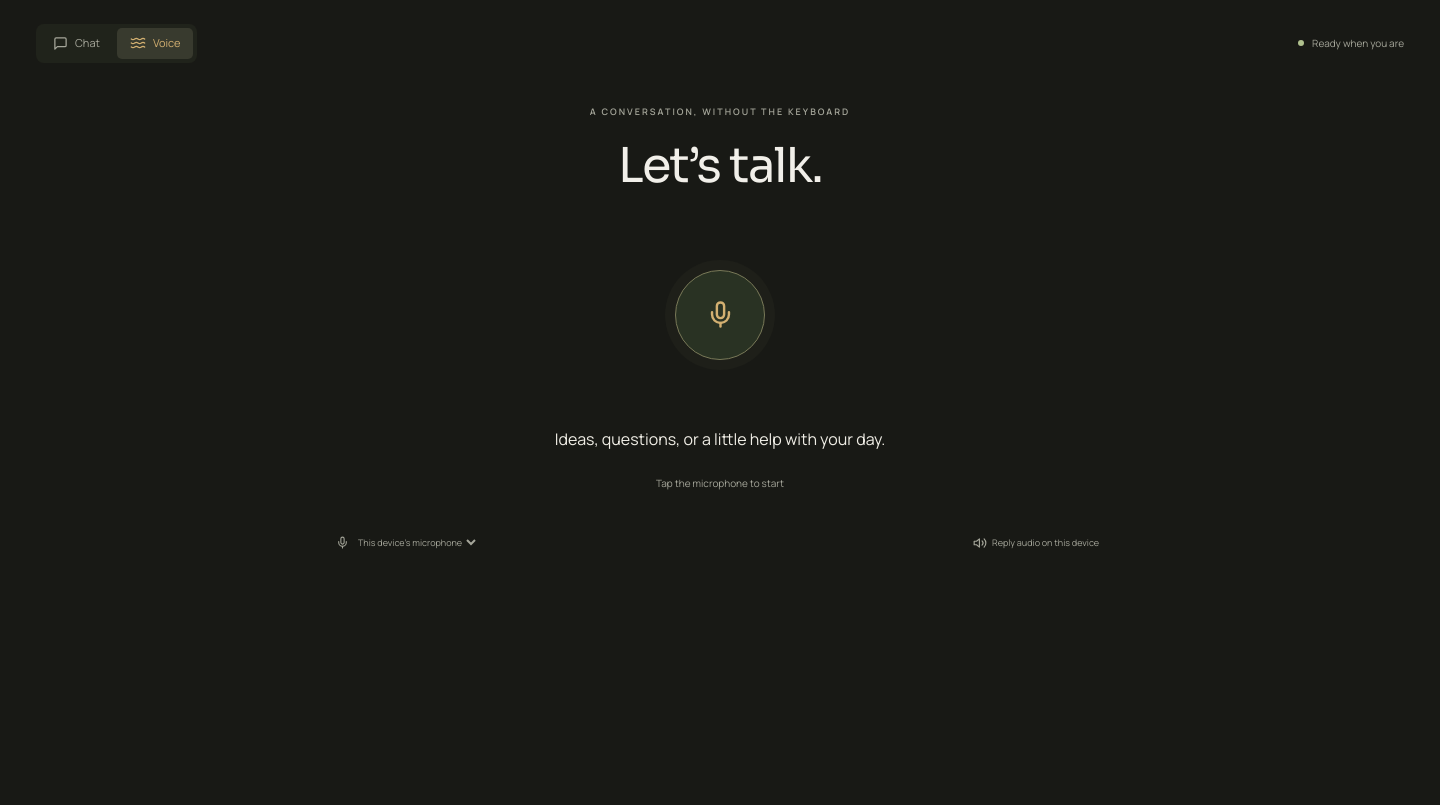
Test: voice mode has microphone and audio controls without a typing composer
Expected: the dropdown named "Microphone source" is shown, [354,535,479,550]
Step 1. Click the button named "Start voice conversation" → {"x": 720, "y": 314}, box [675,270,765,360]
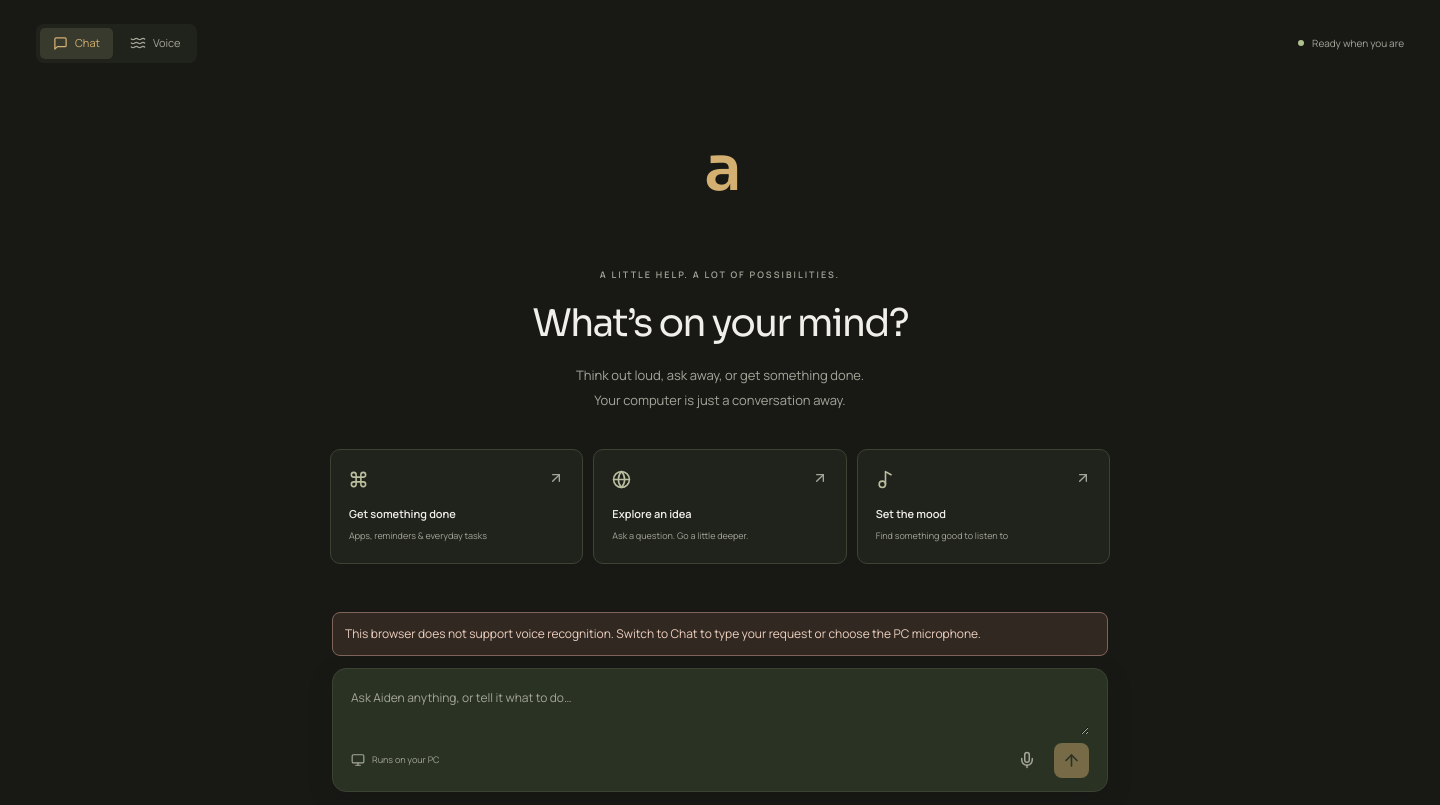
Expected: the text box with placeholder "Ask Aiden anything, or tell it what to do…" is shown, [351,687,1089,735]
